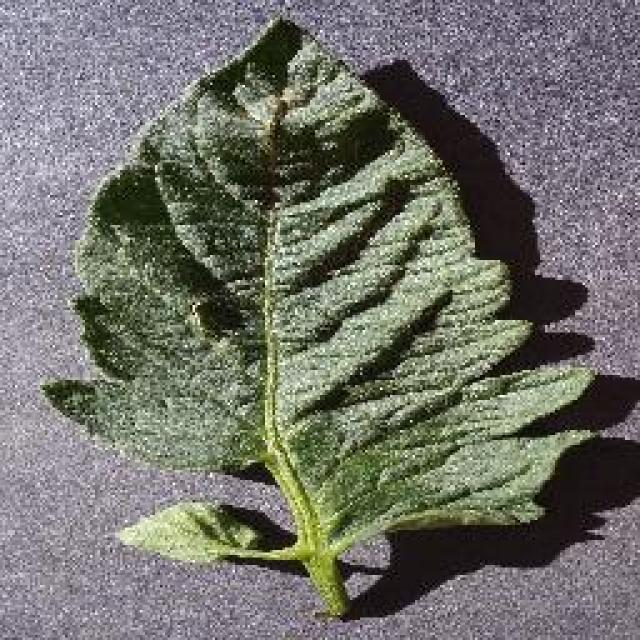healthy: (41, 17, 605, 615)
